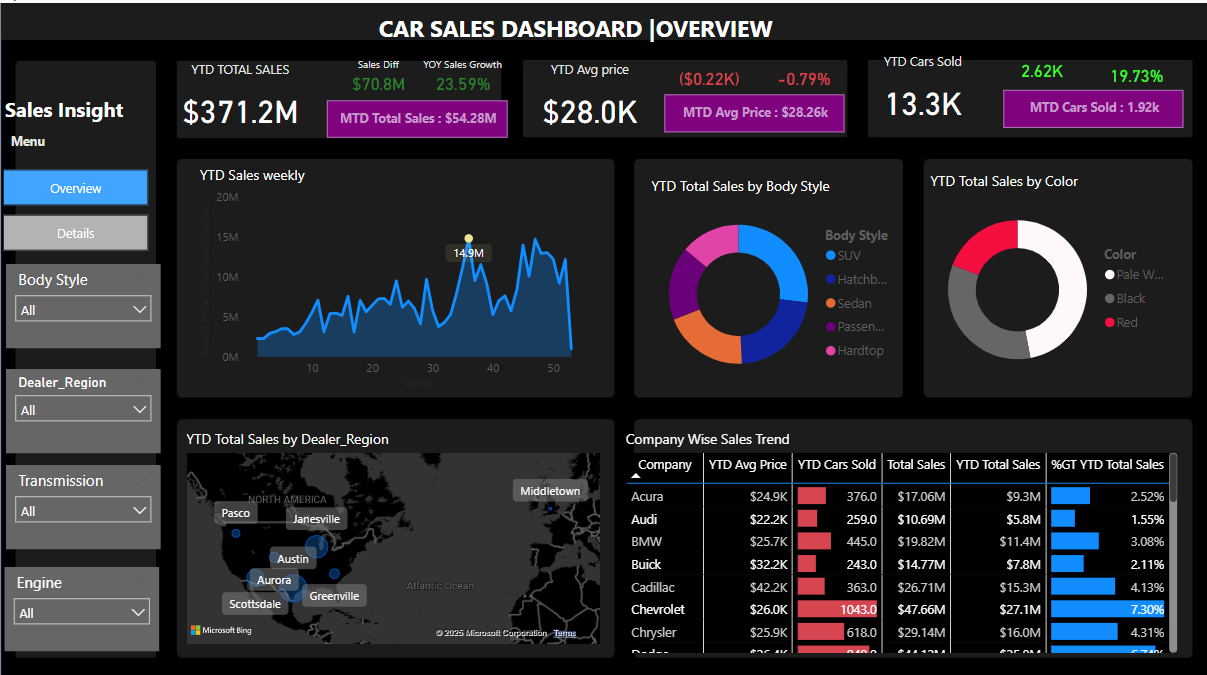

What the dashboard file says about the page in this screenshot:
{"tool":"powerbi","page":{"name":"Overview","canvas":[1280,720],"ordinal":0},"visuals":[{"type":"card","title":"YTD TOTAL SALES","fields":{"Values":["All formulas.YTD Total Sales"]},"box":[177.6,60.5,153.1,85],"z":0},{"type":"card","title":"Sales Diff","fields":{"Values":["All formulas.Sales Difference"]},"box":[359.1,56.7,83.2,39.7],"z":1000},{"type":"card","title":"YOY Sales Growth","fields":{"Values":["All formulas.YoY Sales Growth"]},"box":[441.8,57.1,96.7,38.5],"z":2000},{"type":"card","fields":{"Values":["All formulas.MTD KPI"]},"box":[347.3,103.3,191.2,39.6],"z":3000},{"type":"card","title":"YTD Avg price","fields":{"Values":["All formulas.YTD Avg Price"]},"box":[548,60.5,153.1,85],"z":4000},{"type":"card","title":"Sales Diff","fields":{"Values":["All formulas.Avg Price Diff"]},"box":[701.1,60.5,100.2,39.7],"z":5000},{"type":"card","title":"Sales Diff","fields":{"Values":["All formulas.Yoy Avg Price Growth"]},"box":[801.3,60.5,100.2,39.7],"z":6000},{"type":"card","fields":{"Values":["All formulas.MTD AVG KPI"]},"box":[704.9,96.4,190.9,39.7],"z":7000},{"type":"card","title":"YTD Cars Sold","fields":{"Values":["All formulas.YTD Cars Sold"]},"box":[901.4,52.9,153.1,85],"z":8000},{"type":"card","title":"Sales Diff","fields":{"Values":["All formulas.Car Sold Diff"]},"box":[1054.5,52.9,100.2,39.7],"z":9000},{"type":"card","title":"Sales Diff","fields":{"Values":["All formulas.Yoy Car Sold Growth"]},"box":[1154.7,56.7,100.2,39.7],"z":10000},{"type":"card","fields":{"Values":["All formulas.MTD Car Sold KPI"]},"box":[1063.9,92.6,190.9,39.7],"z":11000},{"type":"areaChart","title":"YTD Sales weekly","fields":{"Category":["Calendar Table.WEEK"],"Y":["Sum(car_data.Price ($))","All formulas.Max Point on Area Chart"]},"box":[206.2,171.8,420.1,242.1],"z":12000},{"type":"donutChart","fields":{"Category":["car_data.Body Style"],"Y":["All formulas.YTD Total Sales"]},"box":[685.6,182.7,273.3,231.1],"z":13000},{"type":"donutChart","fields":{"Y":["All formulas.YTD Total Sales"],"Category":["car_data.Color"]},"box":[980.8,178,273.3,231.1],"z":14000},{"type":"map","fields":{"Size":["All formulas.YTD Total Sales"],"Category":["car_data.Dealer_Region"]},"box":[192.1,451.4,448.2,232.7],"z":15000},{"type":"tableEx","title":"Company Wise Sales Trend","fields":{"Values":["car_data.Company","All formulas.YTD Avg Price","All formulas.YTD Cars Sold","All formulas.Total Sales","All formulas.YTD Total Sales","Divide(All formulas.YTD Total Sales, ScopedEval(All formulas.YTD Total Sales, []))"]},"box":[659.1,451.4,595.1,242.1],"z":16000},{"type":"textbox","box":[368.6,4.7,482.6,48.4],"z":17000},{"type":"slicer","fields":{"Values":["car_data.Body Style"]},"box":[6.8,277.5,164,89],"z":18000},{"type":"slicer","fields":{"Values":["car_data.Dealer_Region"]},"box":[6.8,388.4,164,89],"z":19000},{"type":"slicer","fields":{"Values":["car_data.Transmission"]},"box":[6.8,489.9,164,89],"z":20000},{"type":"slicer","fields":{"Values":["car_data.Engine"]},"box":[5.2,597.7,164,89],"z":21000},{"type":"textbox","box":[0,92.1,171.4,39.7],"z":22000},{"type":"textbox","box":[6.3,131.7,154,41.3],"z":23000},{"type":"pageNavigator","box":[3.1,176.5,154.6,87.5],"z":24000}]}

Visuals, with their boxes in screenshot pixels (x1, y1, x2, y2), scaled from the page's 1280x720 canvas onto the 1207x675 screenshot:
"YTD TOTAL SALES" card: bbox=[167, 57, 312, 136]
"Sales Diff" card: bbox=[339, 53, 417, 90]
"YOY Sales Growth" card: bbox=[417, 54, 508, 90]
card - All formulas.MTD KPI: bbox=[327, 97, 508, 134]
"YTD Avg price" card: bbox=[517, 57, 661, 136]
"Sales Diff" card: bbox=[661, 57, 756, 94]
"Sales Diff" card: bbox=[756, 57, 850, 94]
card - All formulas.MTD AVG KPI: bbox=[665, 90, 845, 128]
"YTD Cars Sold" card: bbox=[850, 50, 994, 129]
"Sales Diff" card: bbox=[994, 50, 1089, 87]
"Sales Diff" card: bbox=[1089, 53, 1183, 90]
card - All formulas.MTD Car Sold KPI: bbox=[1003, 87, 1183, 124]
"YTD Sales weekly" areaChart: bbox=[194, 161, 591, 388]
donutChart - car_data.Body Style x All formulas.YTD Total Sales: bbox=[646, 171, 904, 388]
donutChart - All formulas.YTD Total Sales x car_data.Color: bbox=[925, 167, 1183, 384]
map - All formulas.YTD Total Sales x car_data.Dealer_Region: bbox=[181, 423, 604, 641]
"Company Wise Sales Trend" tableEx: bbox=[622, 423, 1183, 650]
textbox: bbox=[348, 4, 803, 50]
slicer - car_data.Body Style: bbox=[6, 260, 161, 344]
slicer - car_data.Dealer_Region: bbox=[6, 364, 161, 448]
slicer - car_data.Transmission: bbox=[6, 459, 161, 543]
slicer - car_data.Engine: bbox=[5, 560, 160, 644]
textbox: bbox=[0, 86, 162, 124]
textbox: bbox=[6, 123, 151, 162]
pageNavigator: bbox=[3, 165, 149, 248]
